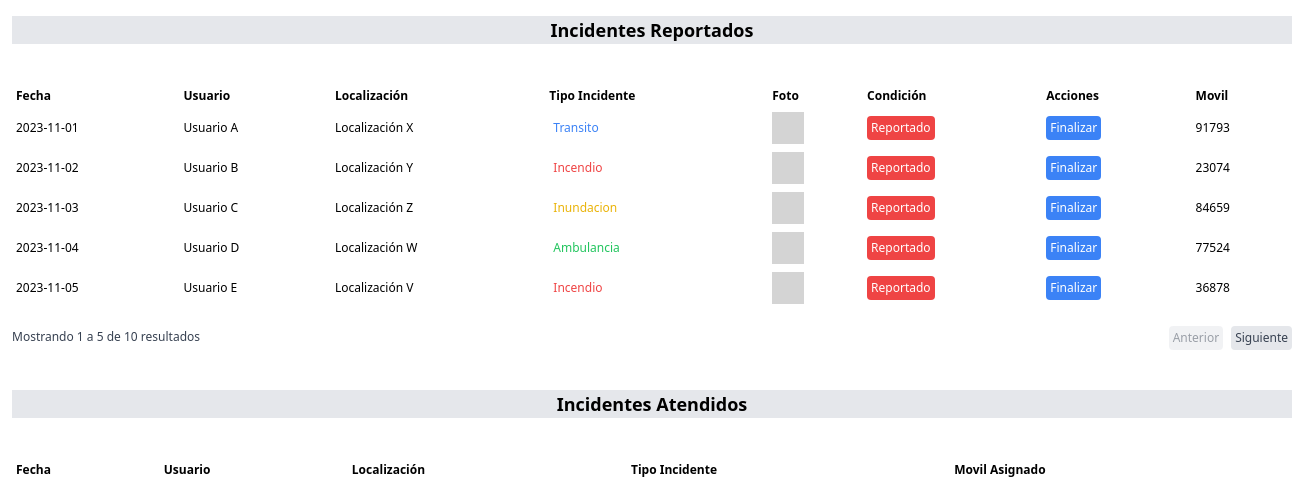
Scenario: displays Next button and checks its disabled state based on row count
The width and height of the screenshot is (1304, 494).
Click the button "Siguiente" at point(1262, 338), box [1231,326,1292,350]
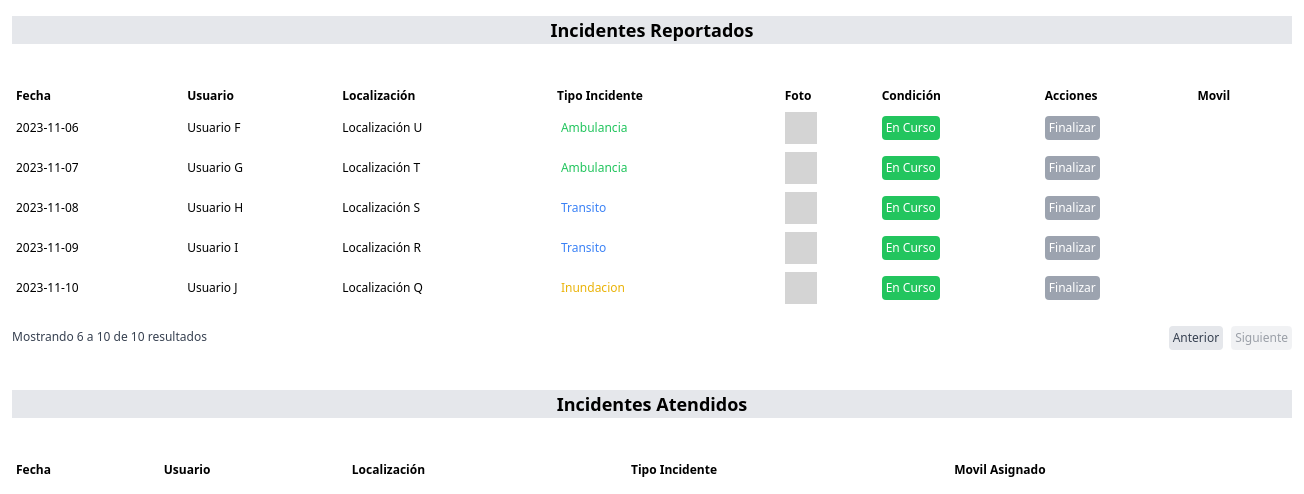
Expected: the button "Siguiente" is disabled, [1231,326,1292,350]
